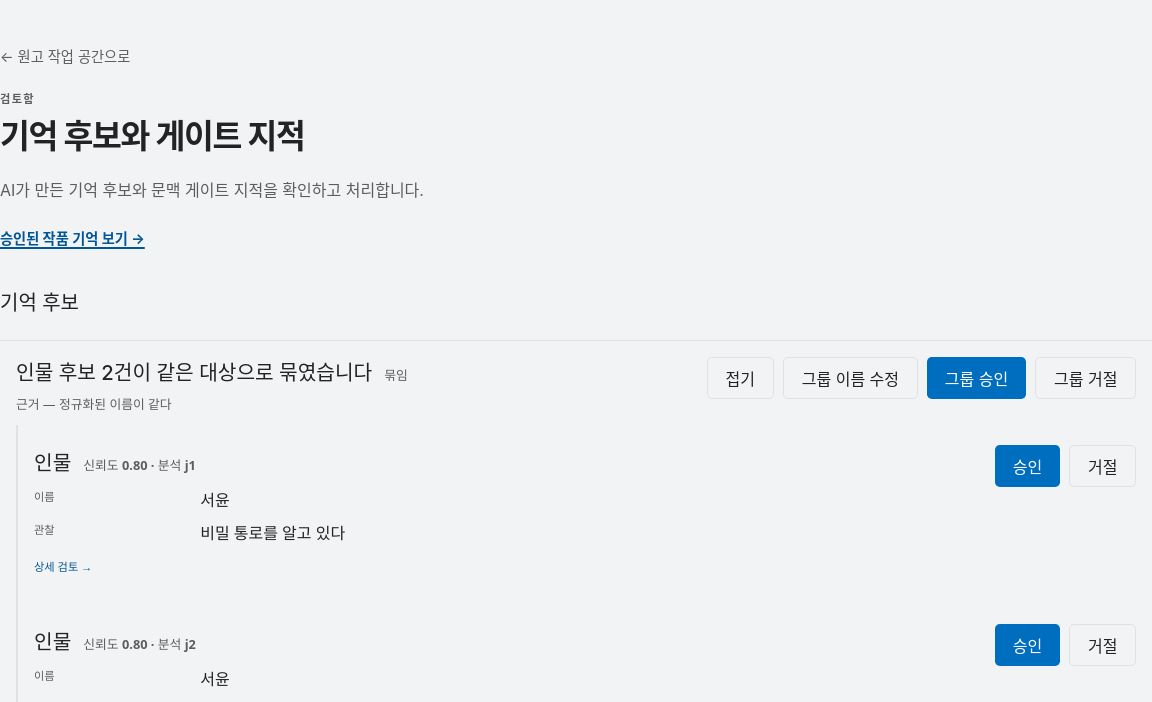
ReviewInbox — 정체성 그룹 › collapses and expands the members of a group
Step 1. Click the button "접기" → (740, 378), box [707, 357, 774, 399]
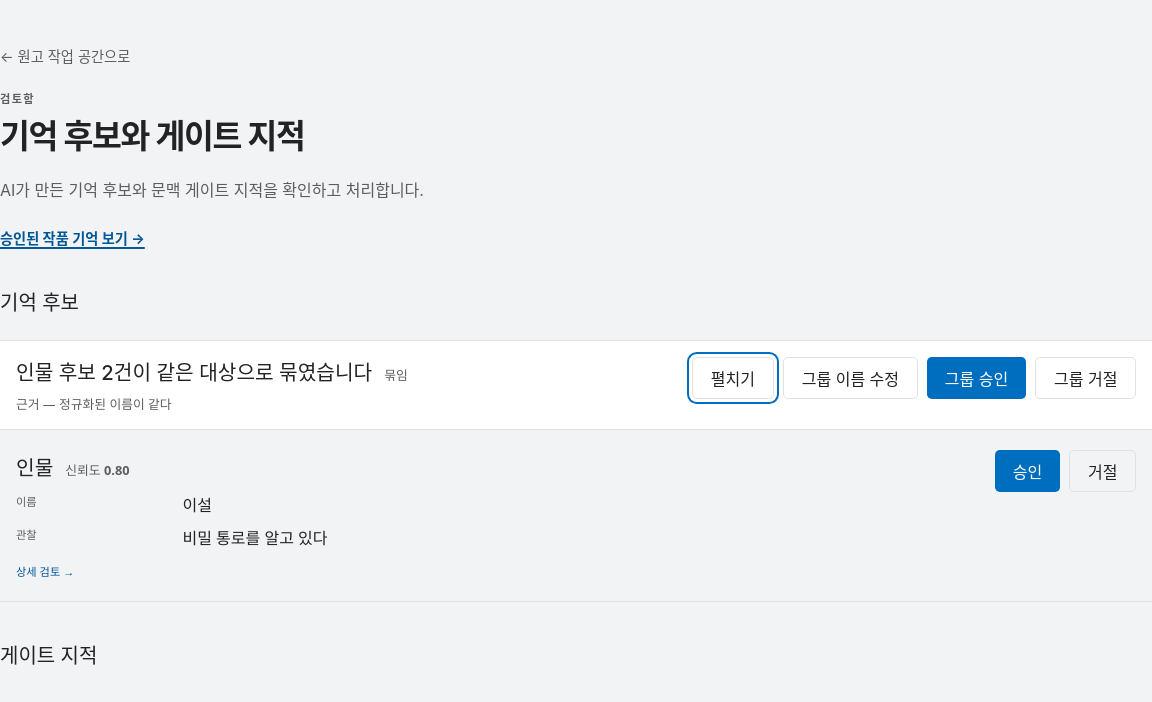
Expected: the text "인물 후보 2건이 같은 대상으로 묶였습니다" is shown, [16, 357, 372, 386]
Expected: the link "서윤" is gone
Step 2. Click the button "펼치기" → (733, 378), box [692, 357, 774, 399]
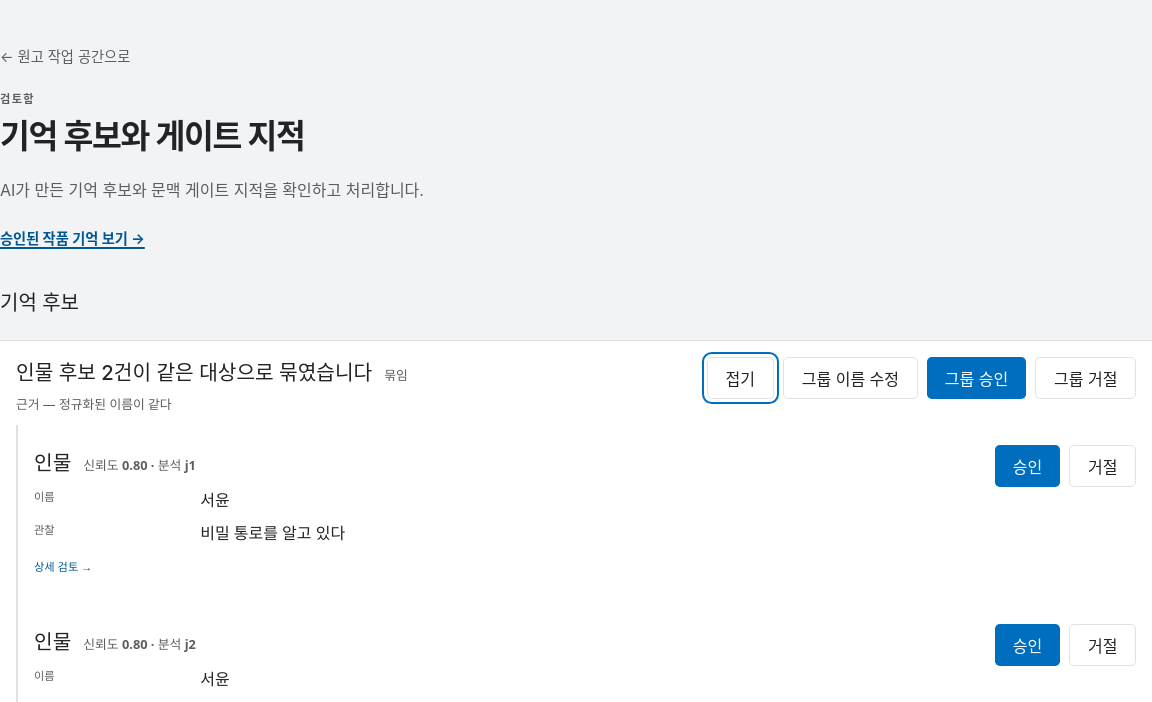
Expected: the text "서윤" is shown 2 times, [200, 489, 230, 511]; [200, 668, 230, 690]
